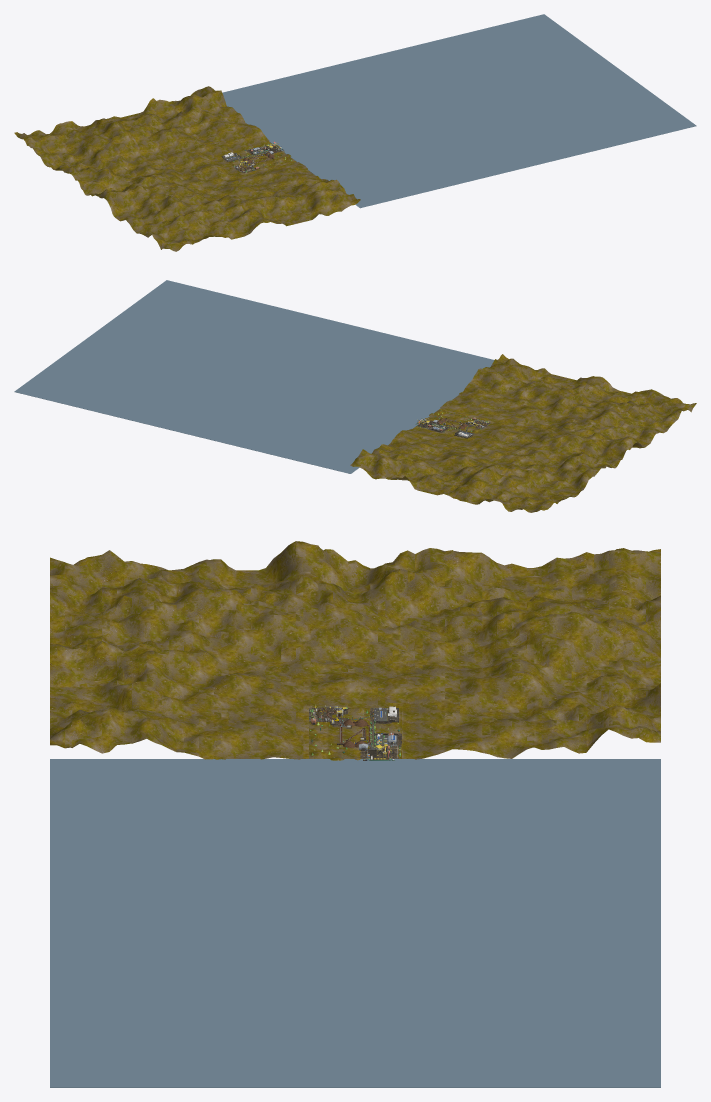
The model's file is maquete-blender.glb.
3 views of the same model, one above another, from view 1: azimuth 30°, elevation 25°; view 2: azimuth 150°, elevation 25°; view 3: azimuth 270°, elevation 25° (orthographic). The views are drawn at different scales.
Parts seen in each view (by area): view 1: TerrenoMar, TerrenoLonge, TerrenoGrama; view 2: TerrenoMar, TerrenoLonge, TerrenoGrama; view 3: TerrenoMar, TerrenoLonge, TerrenoGrama.
Part boxes in pixels (box(x1,y1,x2,y2)): TerrenoMar: box(222, 14, 696, 208); TerrenoLonge: box(14, 86, 360, 251); TerrenoGrama: box(220, 144, 294, 169); TerrenoMar: box(14, 280, 494, 473); TerrenoLonge: box(350, 354, 696, 512); TerrenoGrama: box(416, 410, 480, 439); TerrenoMar: box(50, 759, 660, 1087); TerrenoLonge: box(50, 541, 660, 759); TerrenoGrama: box(309, 707, 401, 760).
Bounding box in the file's own units: 441 × 14.3 × 220.
60 materials, 14 textured.
